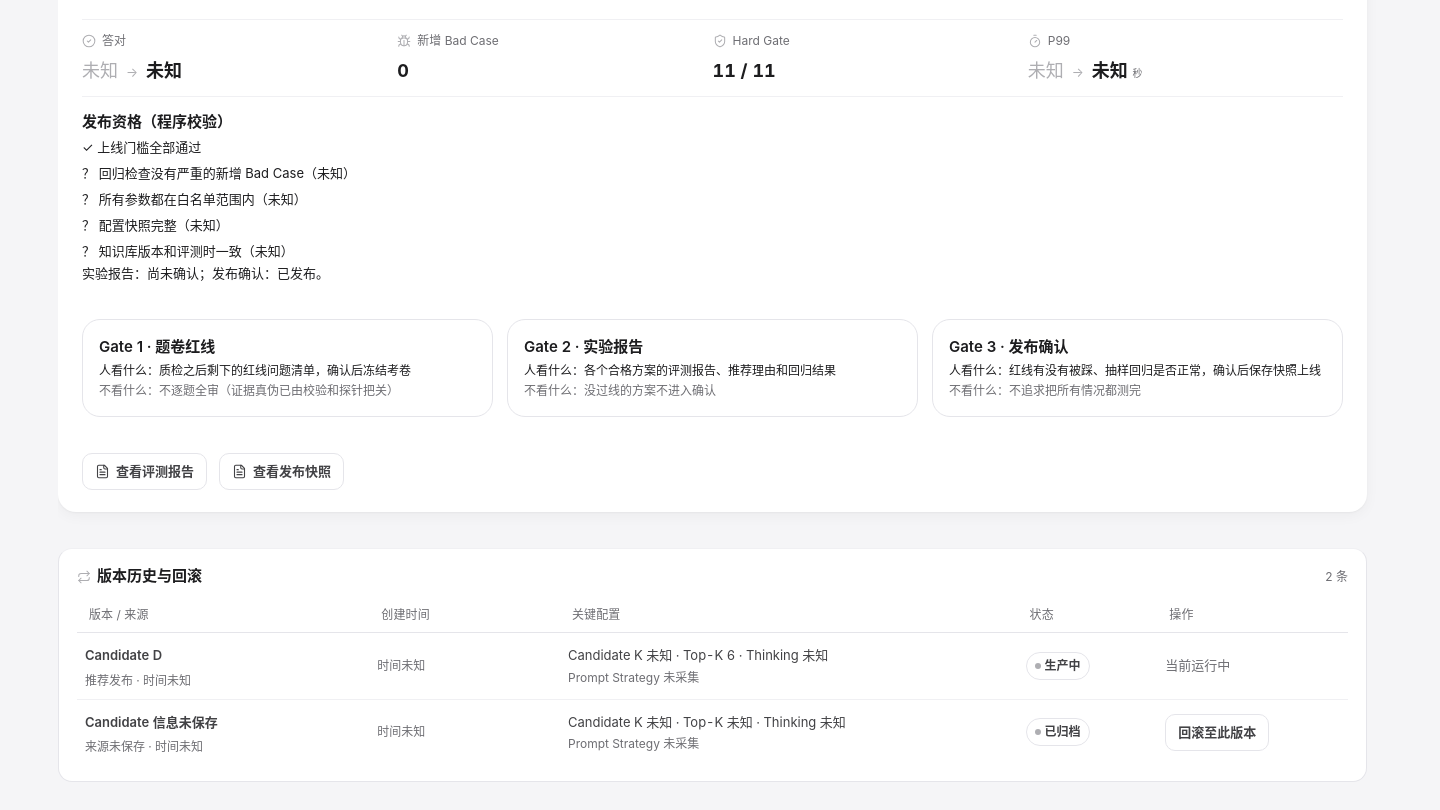
Test: labels the three release gates and keeps only the two secondary review actions
Click the button "回滚至此版本" at (1217, 732), box [1165,714,1269,751]
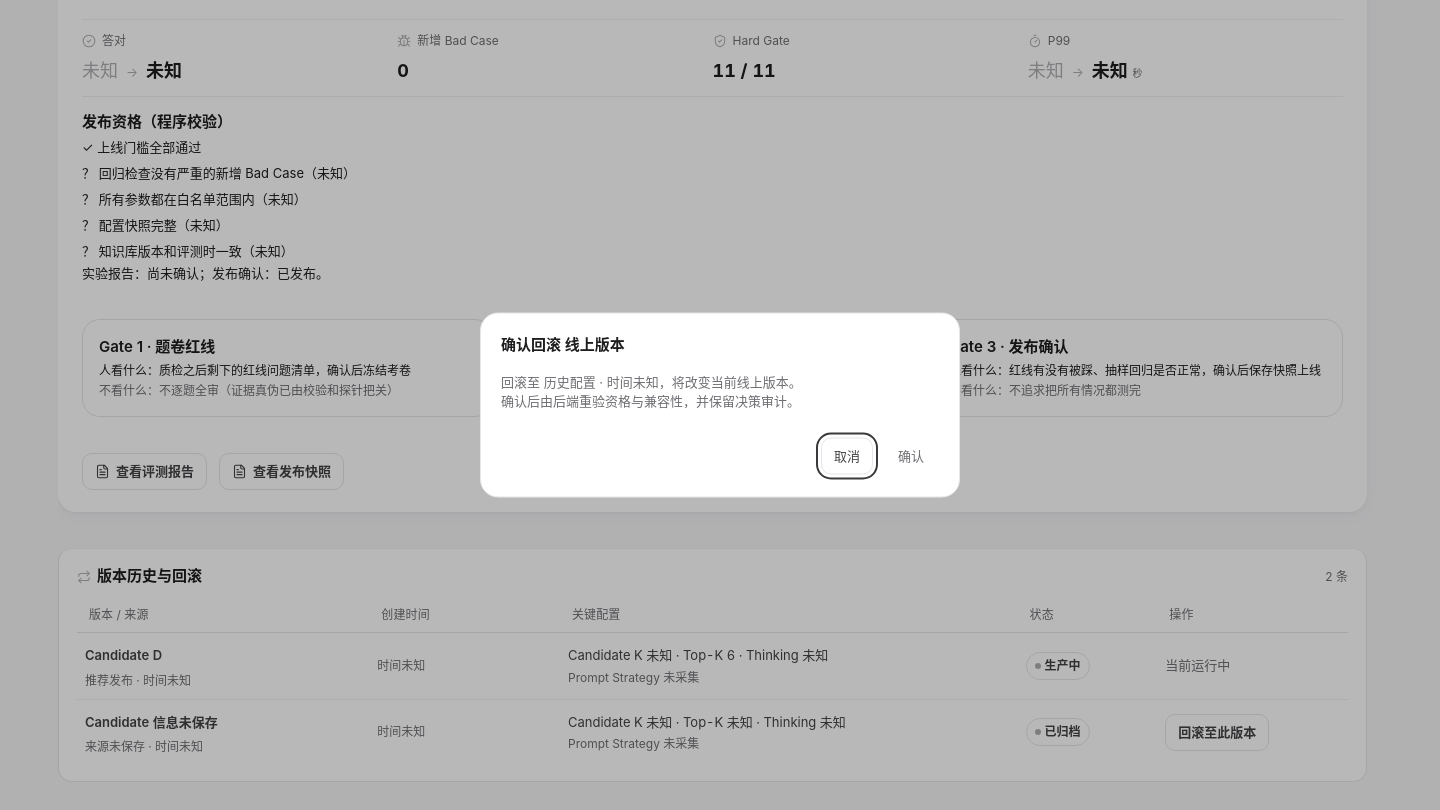
Now the dialog with class "confirm-dialog" is shown, box [480,312,960,498]
